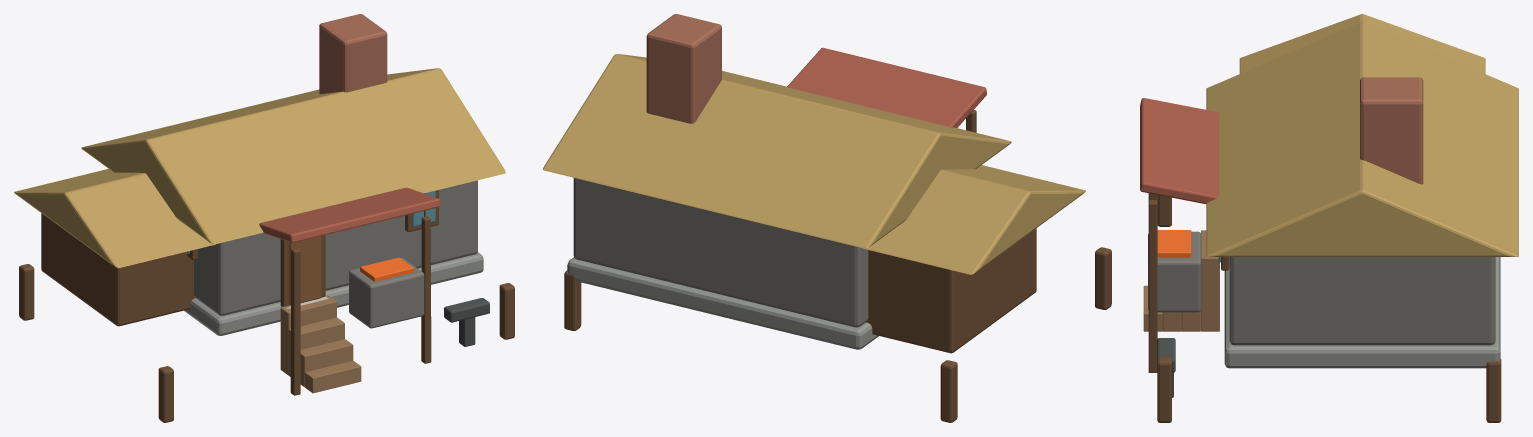
File: wetland-smithy-1.glb
The picture shows the model from 3 angles, left to right: view 1: azimuth 30°, elevation 25°; view 2: azimuth 150°, elevation 25°; view 3: azimuth 270°, elevation 25°; orthographic projection. The views are drawn at different scales.
Parts seen in each view (by area): view 1: Golden thatch, Soot stone, Dark beams, Aged oak, Chimney brick, Clay tiles, Foundation stone, Door oak, Forged iron, Forge ember; view 2: Golden thatch, Soot stone, Dark beams, Clay tiles, Chimney brick, Foundation stone; view 3: Golden thatch, Soot stone, Foundation stone, Clay tiles, Chimney brick, Dark beams, Aged oak, Forge ember, Forged iron.
Boxes of the visible parts, x1,y1,x2,y2 form: Golden thatch: (14,68,505,268); Soot stone: (194,180,477,328); Dark beams: (19,190,514,422); Aged oak: (280,296,361,393); Chimney brick: (319,14,387,94); Clay tiles: (259,187,440,242); Foundation stone: (184,252,483,335); Door oak: (289,236,321,305); Forged iron: (444,298,489,346); Forge ember: (360,257,413,281); Golden thatch: (543,54,1085,274); Soot stone: (573,178,868,327); Dark beams: (564,110,1111,422); Clay tiles: (787,47,986,127); Chimney brick: (646,14,721,123); Foundation stone: (567,257,878,349); Golden thatch: (1206,14,1518,256); Soot stone: (1148,231,1495,345); Foundation stone: (1224,257,1500,368); Clay tiles: (1140,98,1219,203); Chimney brick: (1360,77,1423,184); Dark beams: (1148,193,1501,422); Aged oak: (1143,230,1219,331); Forge ember: (1157,230,1191,257); Forged iron: (1157,338,1175,397).
Bounding box in the file's own units: 6.19 × 3.98 × 4.56.
